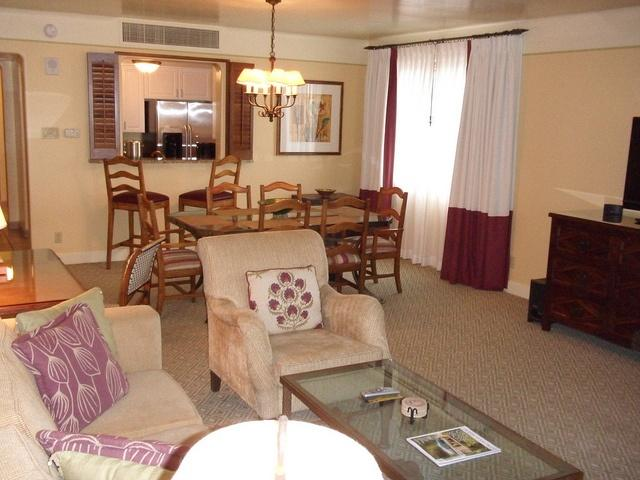Kursi: (100, 157, 171, 268), (137, 194, 203, 310), (318, 195, 372, 295), (358, 187, 407, 292)
Meja: (273, 356, 584, 479)
